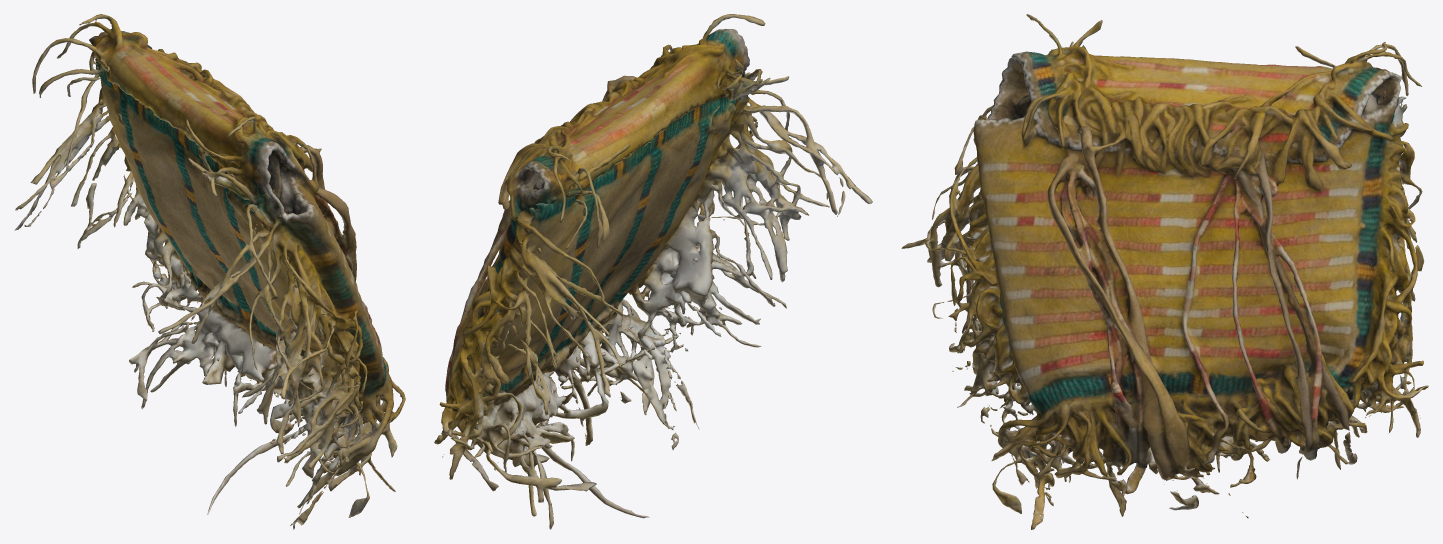
File: pouch.glb
The picture shows the model from 3 angles, left to right: view 1: azimuth 30°, elevation 25°; view 2: azimuth 150°, elevation 25°; view 3: azimuth 270°, elevation 25°; orthographic projection. The views are drawn at different scales.
Parts seen in each view (by area): view 1: pouch; view 2: pouch; view 3: pouch.
Boxes of the visible parts, x1,y1,x2,y2 form: pouch: [14, 14, 405, 529]; pouch: [434, 14, 872, 529]; pouch: [901, 14, 1428, 529].
Bounding box in the file's own units: 3.17 × 4.94 × 4.95.
1 material, 1 textured.
